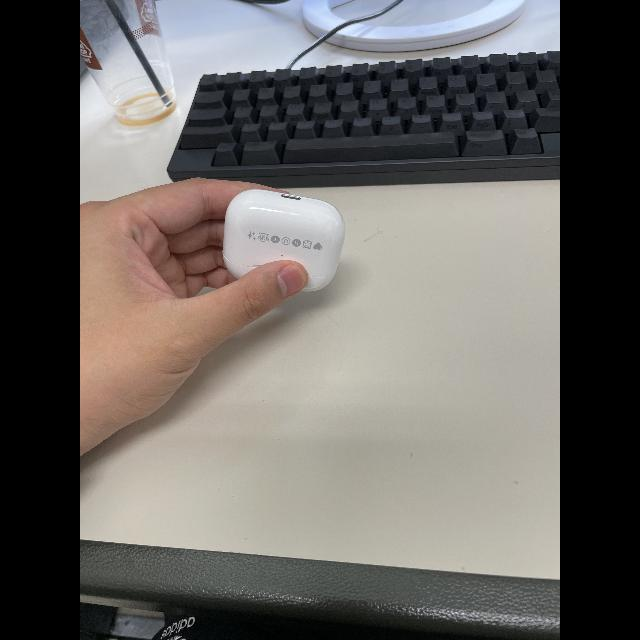airpod3: (216, 186, 346, 294)
